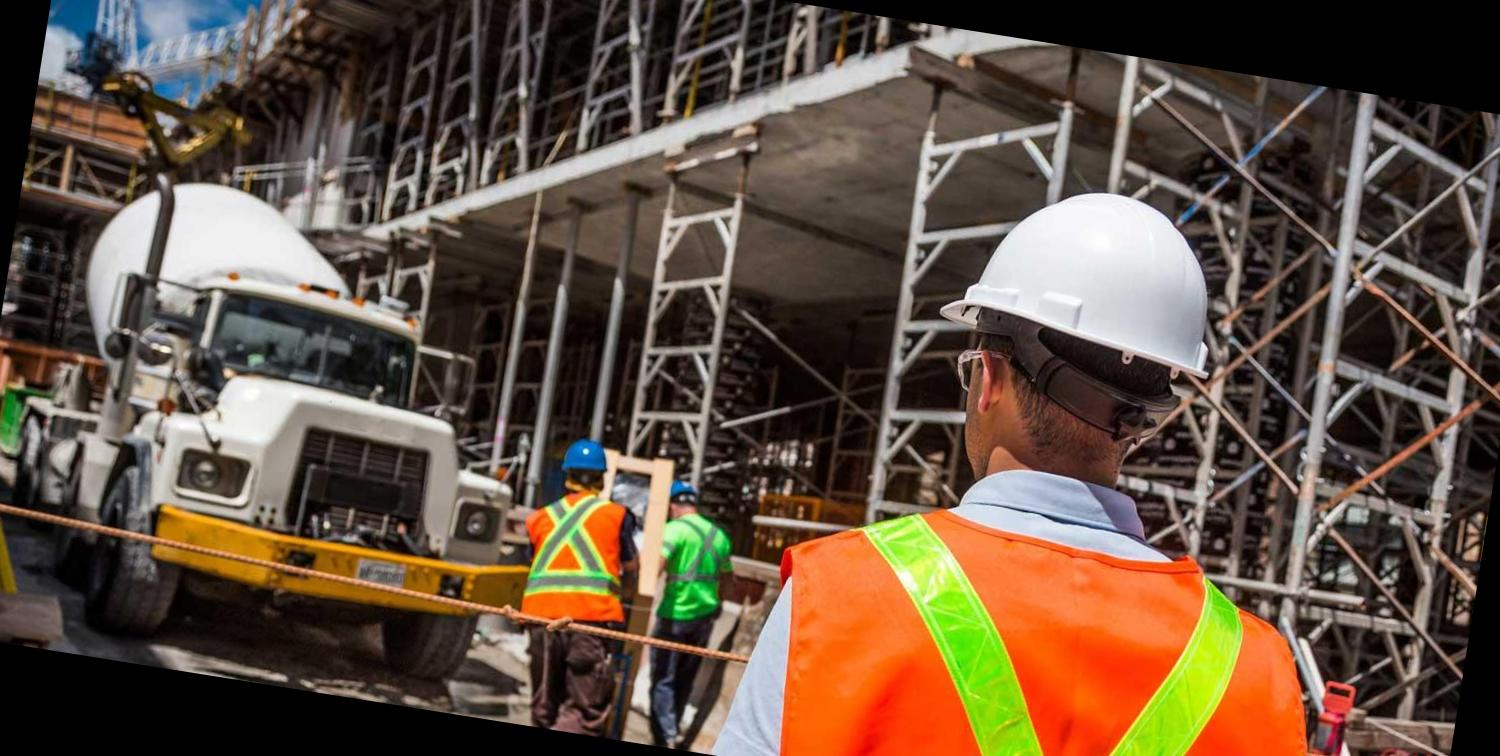Helmet: (919, 164, 1250, 392), (546, 430, 616, 491), (660, 474, 704, 514)
Vest: (735, 458, 1357, 756), (511, 488, 652, 644), (646, 509, 744, 650)
